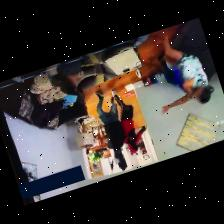person: (161, 35, 214, 112), (112, 89, 146, 152), (95, 91, 125, 157), (50, 57, 83, 93)
